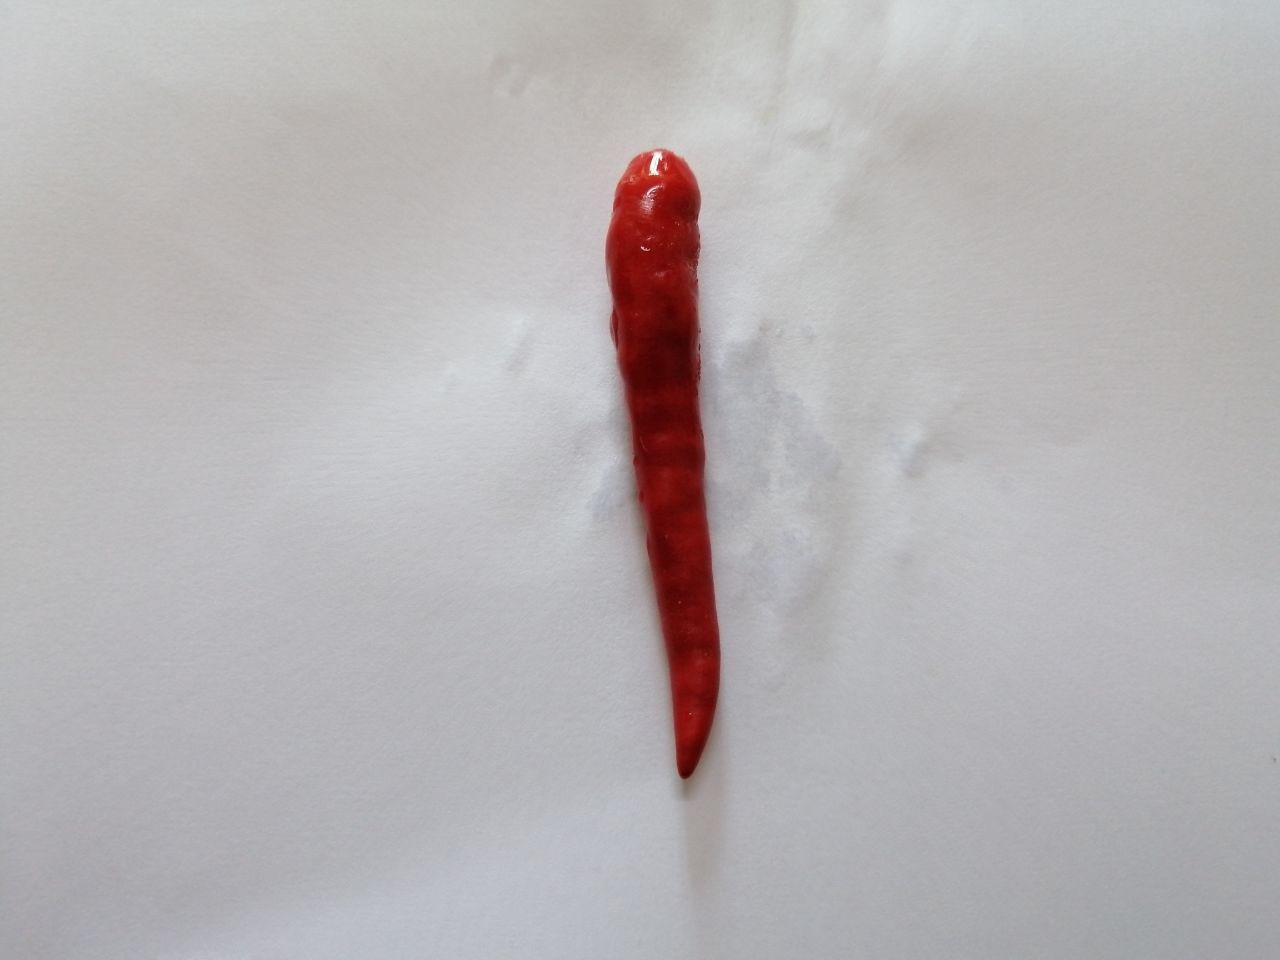lada merah: (577, 136, 783, 792)
